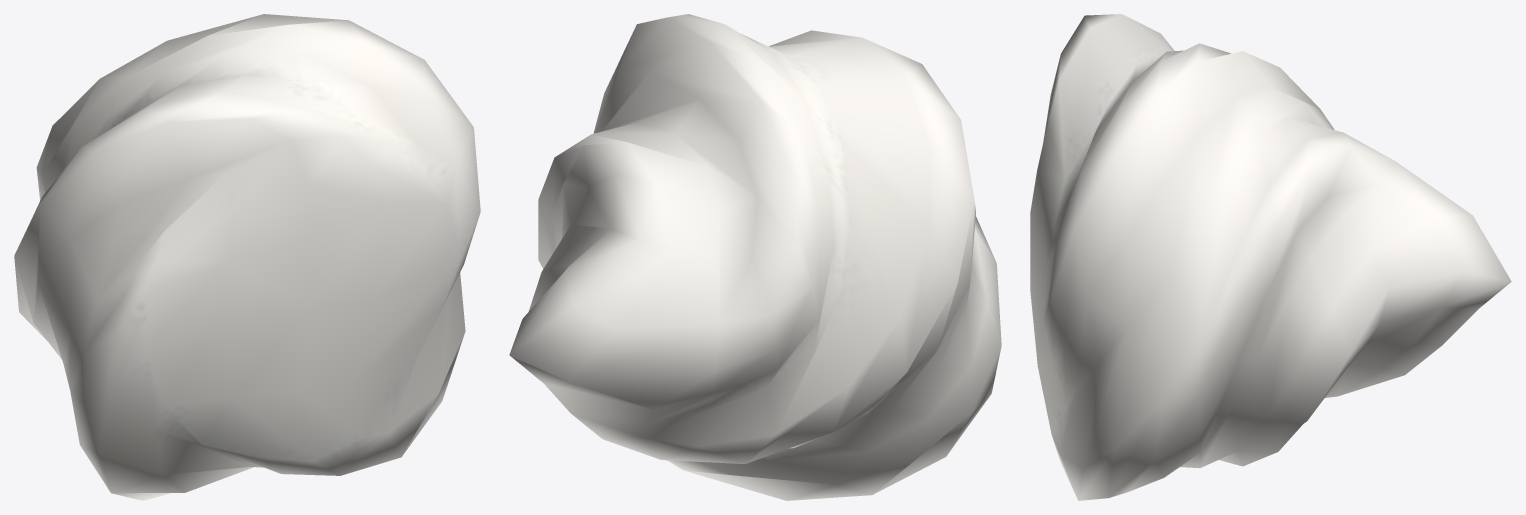
File: piping-soft-swirl.glb
The picture shows the model from 3 angles, left to right: view 1: azimuth 30°, elevation 25°; view 2: azimuth 150°, elevation 25°; view 3: azimuth 270°, elevation 25°; orthographic projection. The views are drawn at different scales.
Visible parts, largest first — view 1: set1_cream2; view 2: set1_cream2; view 3: set1_cream2.
Boxes of the visible parts, <box> form: set1_cream2: <box>14,14,480,500</box>; set1_cream2: <box>509,14,1001,500</box>; set1_cream2: <box>1030,14,1511,500</box>.
Size of the model in its own units: 0.0171 by 0.0171 by 0.0173.
Materials: 1 (1 with a texture image).
